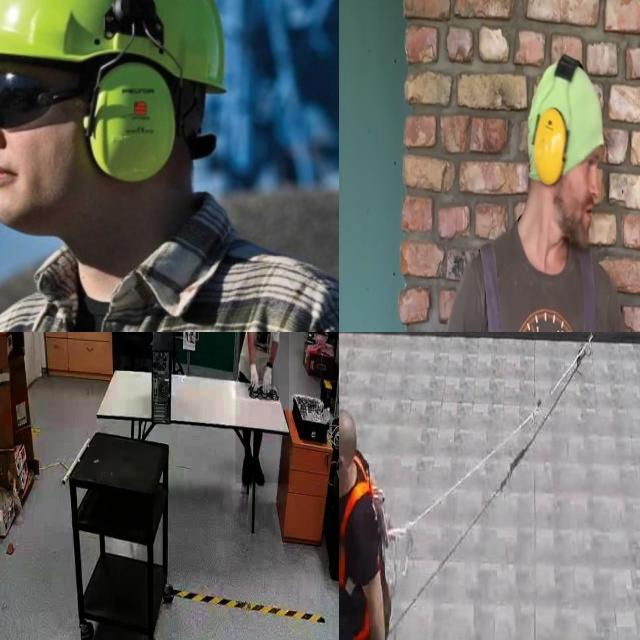Ear-protection: (0, 18, 225, 260), (525, 54, 607, 248)
Harness: (339, 454, 372, 586)
hand_glove: (244, 360, 260, 400), (260, 358, 274, 403)
person: (235, 332, 289, 484)
